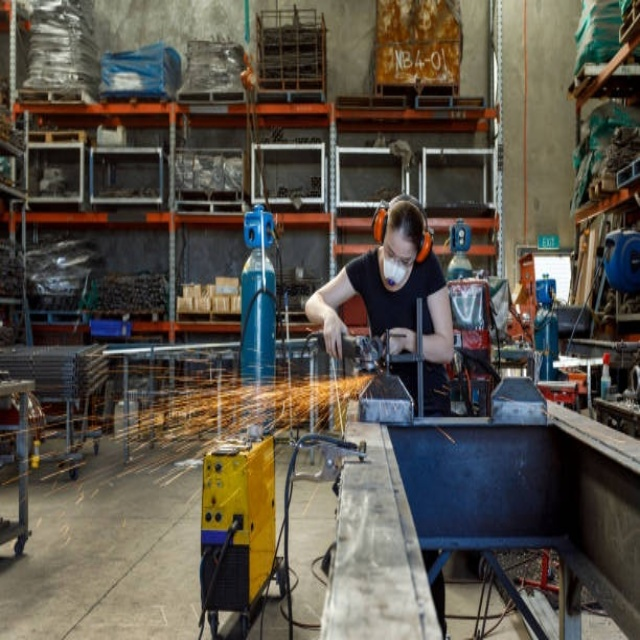Mascara: (381, 249, 410, 286)
Sin_guantes: (319, 311, 347, 361), (378, 327, 413, 358)
